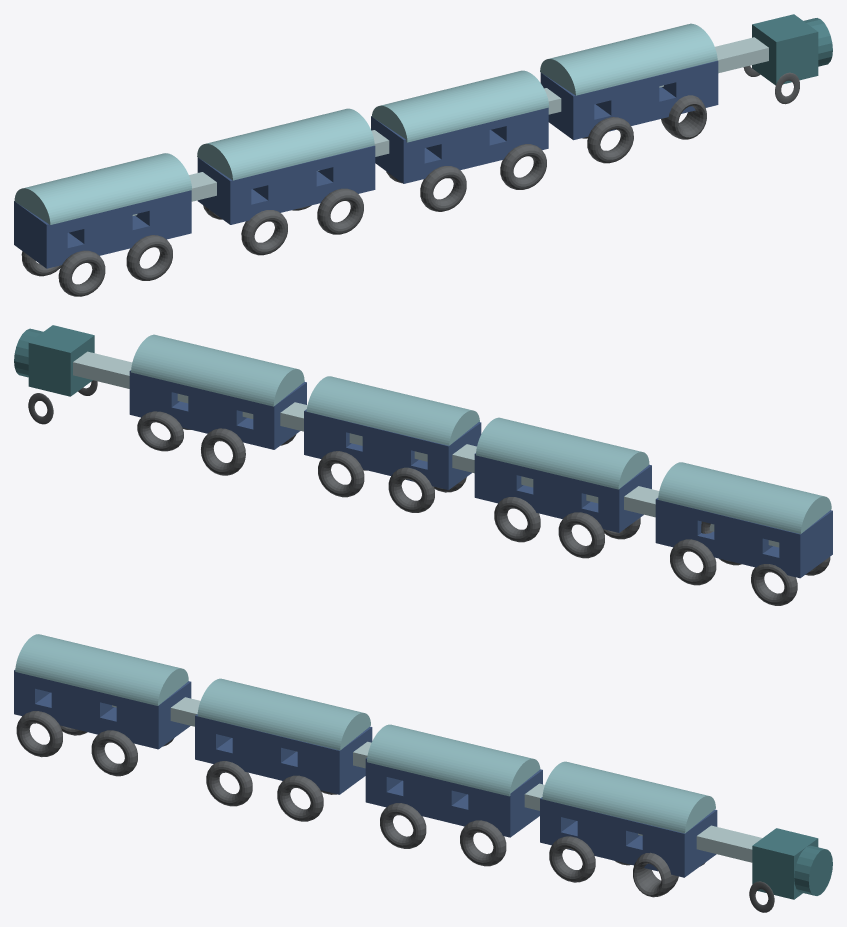
File: Project-150.glb
3 views of the same model, one above another, from view 1: azimuth 30°, elevation 25°; view 2: azimuth 150°, elevation 25°; view 3: azimuth 330°, elevation 25° (orthographic).
Visible parts, largest first — view 1: Mesh_Mesh_head_geo.001_lambert2SG.001; view 2: Mesh_Mesh_head_geo.001_lambert2SG.001; view 3: Mesh_Mesh_head_geo.001_lambert2SG.001.
Part boxes in pixels (x1,y1,x2,y2): Mesh_Mesh_head_geo.001_lambert2SG.001: [14, 14, 832, 296]; Mesh_Mesh_head_geo.001_lambert2SG.001: [14, 325, 832, 605]; Mesh_Mesh_head_geo.001_lambert2SG.001: [14, 634, 832, 912].
Bounding box in the file's own units: 377 × 47 × 42.
